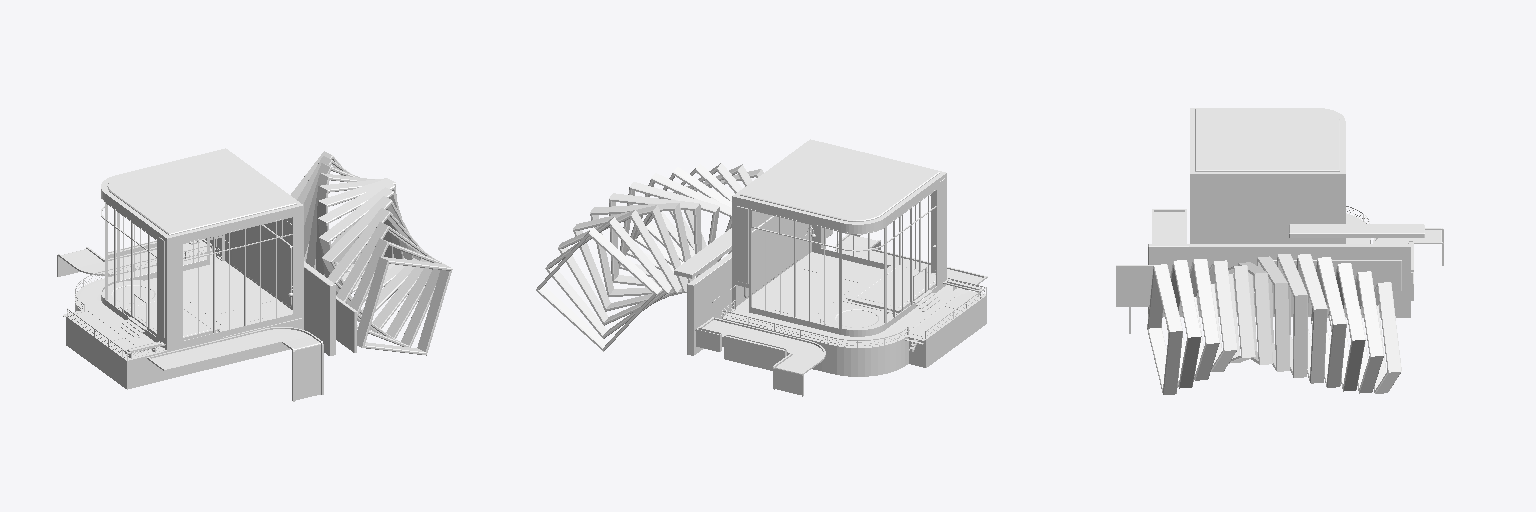
File: building.obj
The picture shows the model from 3 angles: view 1: azimuth 30°, elevation 25°; view 2: azimuth 150°, elevation 25°; view 3: azimuth 270°, elevation 25°; orthographic projection.
Parts seen in each view (by area): view 1: duplicate_for_climbing_Combined_Mesh_(root:_scene).023; view 2: duplicate_for_climbing_Combined_Mesh_(root:_scene).023; view 3: duplicate_for_climbing_Combined_Mesh_(root:_scene).023.
Part boxes in pixels (bbox=[...]): duplicate_for_climbing_Combined_Mesh_(root:_scene).023: bbox=[57, 148, 452, 401]; duplicate_for_climbing_Combined_Mesh_(root:_scene).023: bbox=[536, 139, 987, 396]; duplicate_for_climbing_Combined_Mesh_(root:_scene).023: bbox=[1116, 108, 1443, 394].
Size of the model in its own units: 37.28 by 17.28 by 30.37.